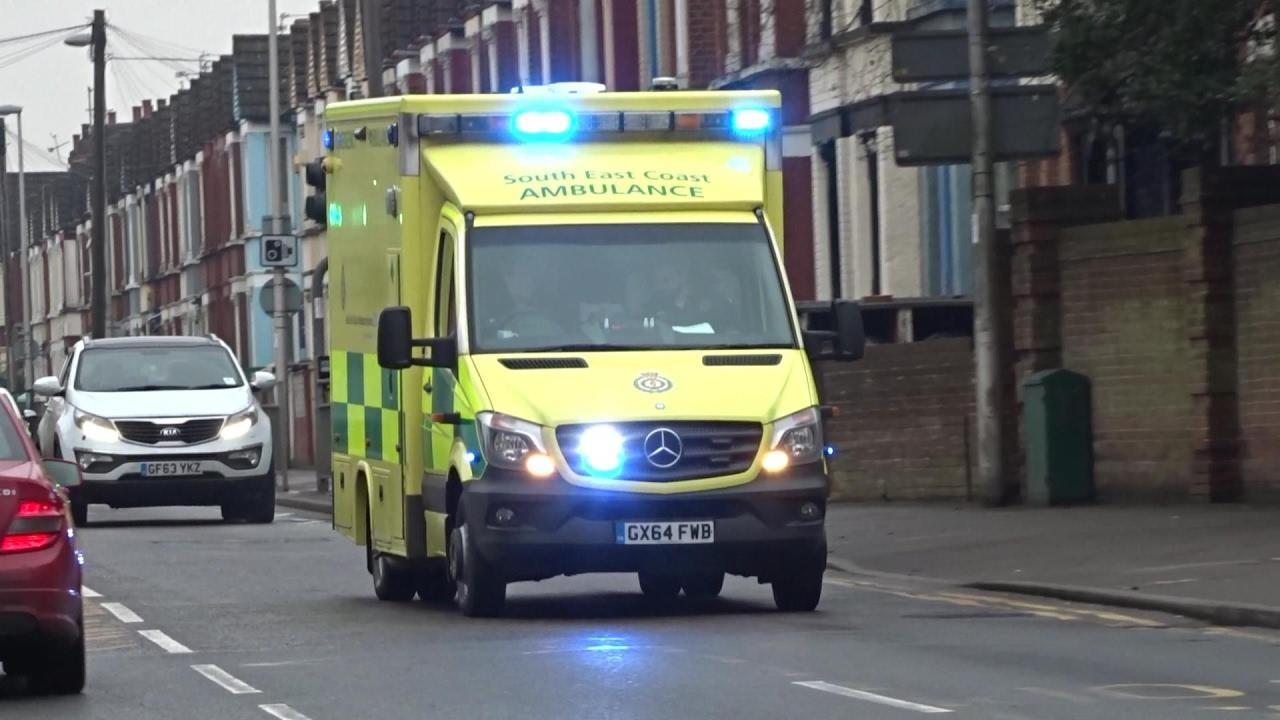Ambulance: (518, 180, 716, 212)
